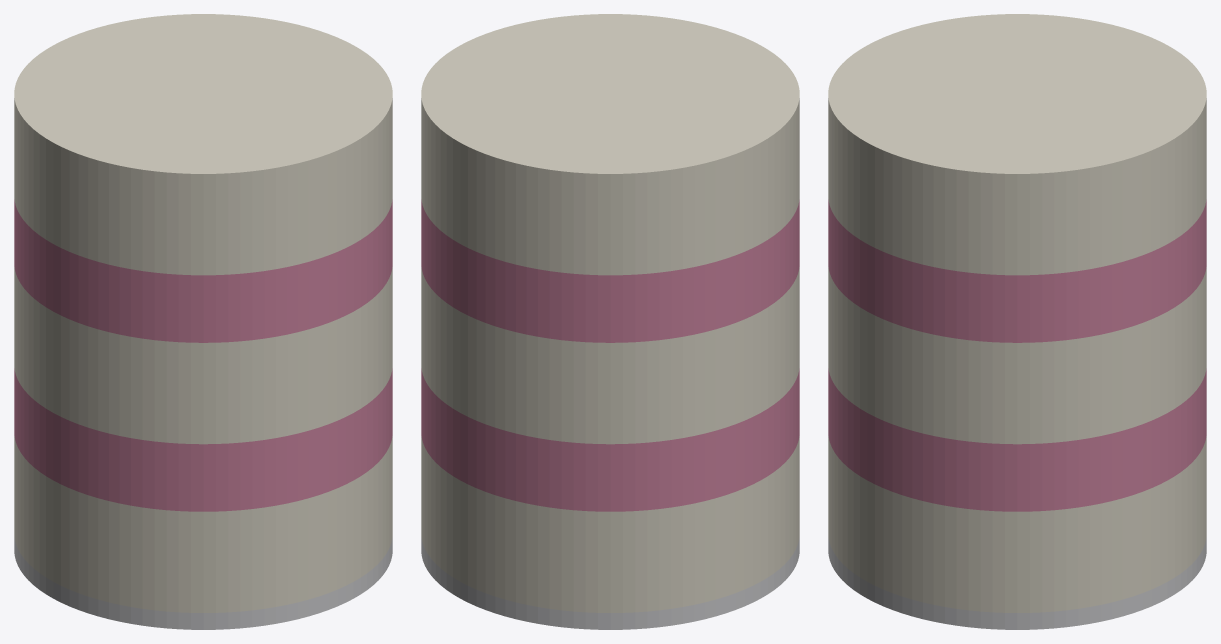
Rendered from cake_4in_layers3.glb.
3 views of the same model, side by side, from view 1: azimuth 30°, elevation 25°; view 2: azimuth 150°, elevation 25°; view 3: azimuth 270°, elevation 25° (orthographic).
Parts seen in each view (by area): view 1: geometry_4, geometry_0, geometry_2, geometry_3, geometry_1, geometry_5; view 2: geometry_4, geometry_0, geometry_2, geometry_3, geometry_1, geometry_5; view 3: geometry_4, geometry_0, geometry_2, geometry_3, geometry_1, geometry_5.
Boxes of the visible parts, bbox=[...] form: geometry_4: bbox=[14, 14, 392, 275]; geometry_0: bbox=[14, 436, 392, 612]; geometry_2: bbox=[14, 267, 392, 444]; geometry_3: bbox=[14, 199, 392, 342]; geometry_1: bbox=[14, 368, 392, 511]; geometry_5: bbox=[14, 537, 392, 629]; geometry_4: bbox=[421, 14, 799, 275]; geometry_0: bbox=[421, 436, 799, 612]; geometry_2: bbox=[421, 267, 799, 444]; geometry_3: bbox=[421, 199, 799, 342]; geometry_1: bbox=[421, 368, 799, 511]; geometry_5: bbox=[421, 537, 799, 629]; geometry_4: bbox=[828, 14, 1206, 275]; geometry_0: bbox=[828, 436, 1206, 612]; geometry_2: bbox=[828, 267, 1206, 444]; geometry_3: bbox=[828, 199, 1206, 342]; geometry_1: bbox=[828, 368, 1206, 511]; geometry_5: bbox=[828, 537, 1206, 629].
Bounding box in the file's own units: 0.1016 × 0.135 × 0.1016.
